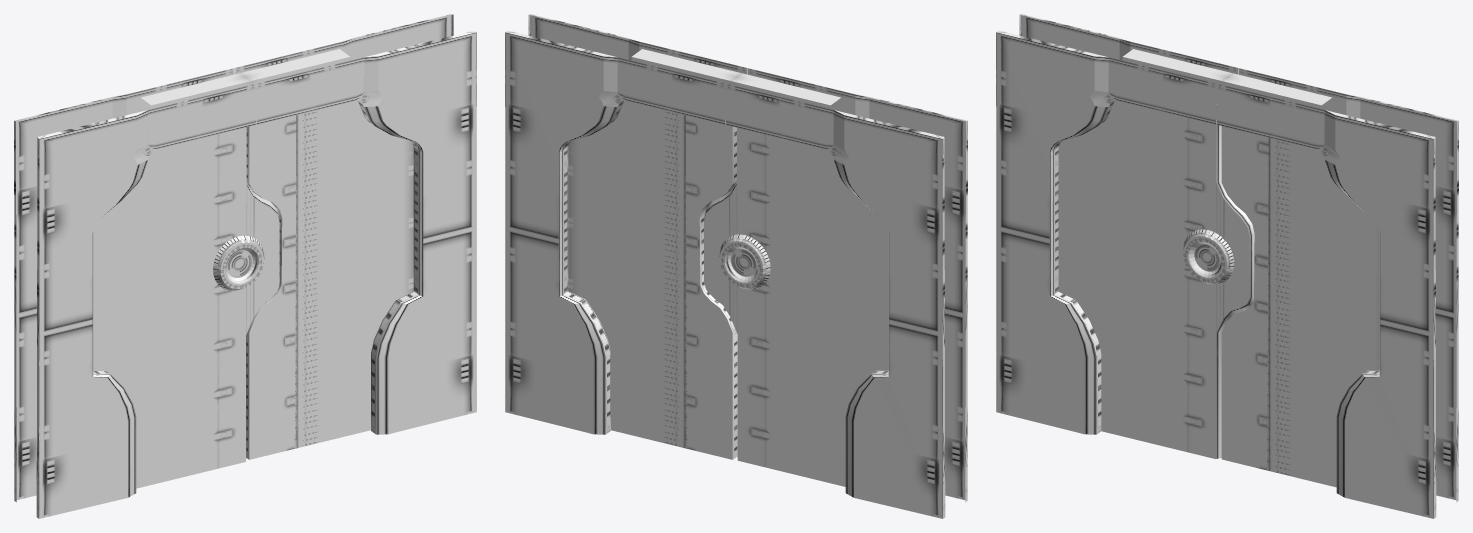
The model's file is Door.fbx.
3 renders of one model, left to right at view 1: azimuth 30°, elevation 25°; view 2: azimuth 150°, elevation 25°; view 3: azimuth 330°, elevation 25°, orthographic.
Parts seen in each view (by area): view 1: Door_Frame, Door_right, Door_Left; view 2: Door_Frame, Door_right, Door_Left; view 3: Door_Frame, Door_right, Door_Left.
Part boxes in pixels (x1,y1,x2,y2): Door_Frame: (14,14,476,518); Door_right: (93,127,279,488); Door_Left: (246,100,413,459); Door_Frame: (505,14,967,518); Door_right: (704,127,888,486); Door_Left: (568,100,737,459); Door_Frame: (996,14,1458,518); Door_right: (1058,100,1254,458); Door_Left: (1221,126,1379,487).
Size of the model in its own units: 452 by 376 by 45.
